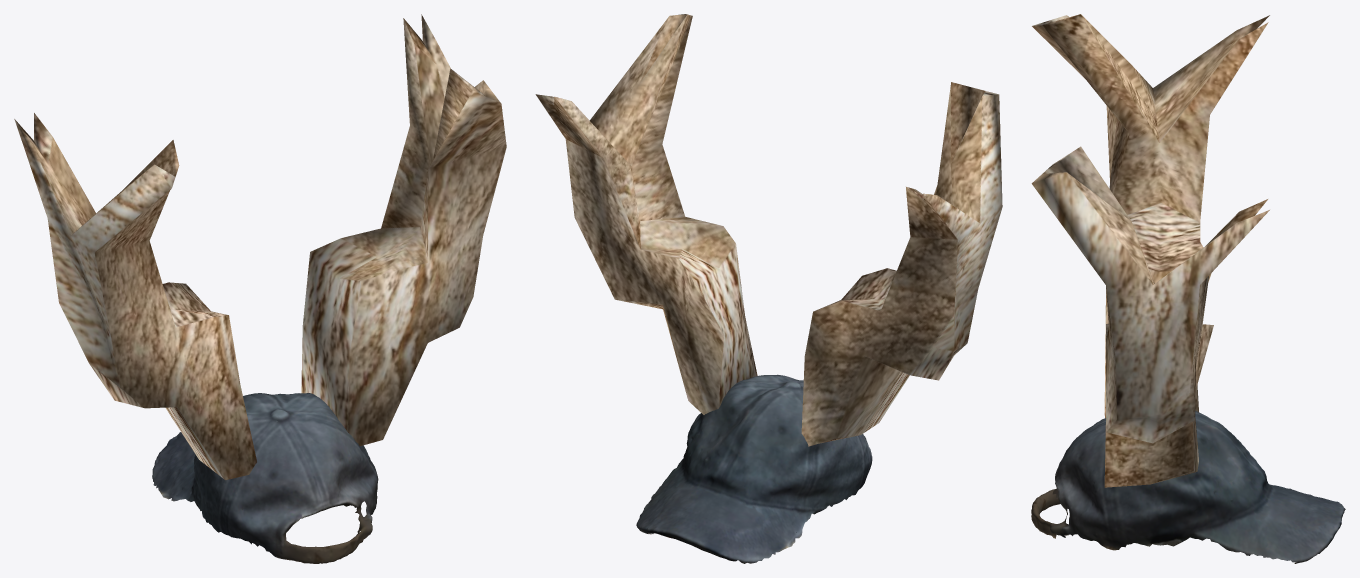
3 views of the same model, side by side, from view 1: azimuth 30°, elevation 25°; view 2: azimuth 150°, elevation 25°; view 3: azimuth 270°, elevation 25° (orthographic). The views are drawn at different scales.
Parts seen in each view (by area): view 1: baked_mesh; view 2: baked_mesh; view 3: baked_mesh.
Boxes of the visible parts, x1,y1,x2,y2 form: baked_mesh: (14,14,506,563); baked_mesh: (535,14,1002,563); baked_mesh: (1031,14,1345,563).
Bounding box in the file's own units: 1.3 × 1.35 × 0.8553.
1 material, 1 textured.
